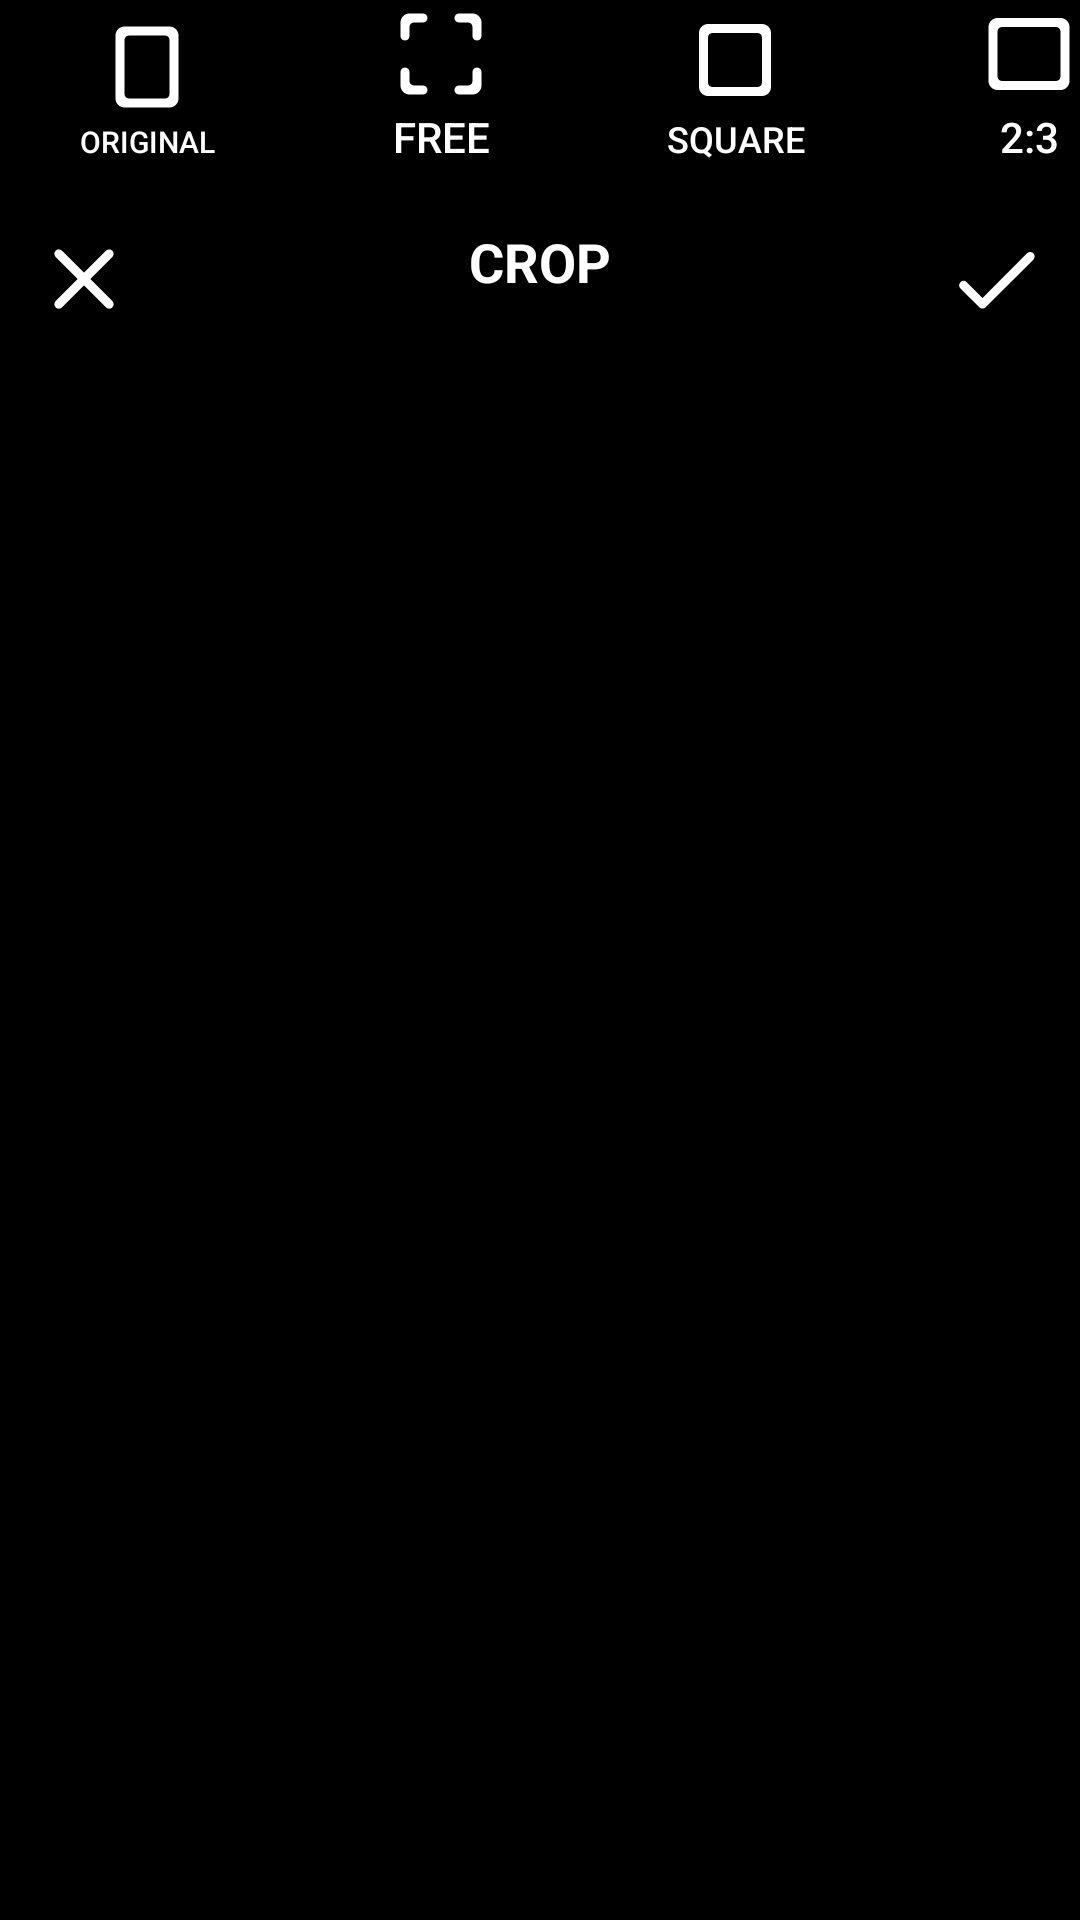

Screen size 1080*1920. Icon name, then its center in pixels as (x=x, y=y):
close: (x=84, y=279)
done: (x=997, y=280)
